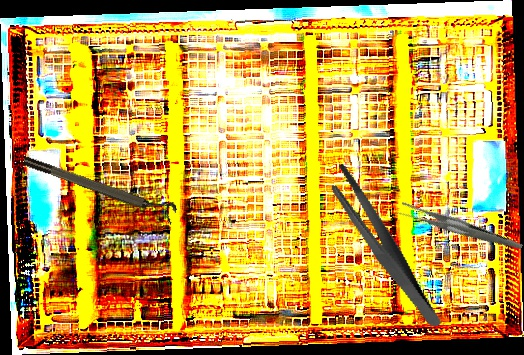Dressing Forceps: (325, 150, 442, 344), (395, 172, 524, 285)
Fixation Ring: (21, 147, 179, 225)
